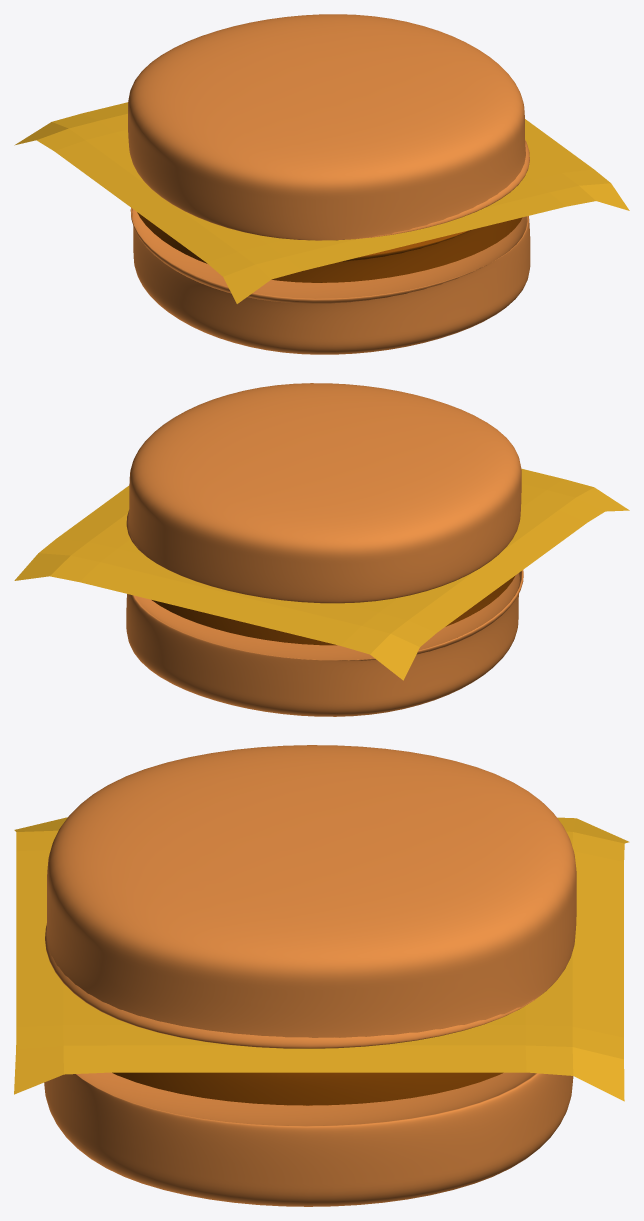
Rendered from hamburger.glb.
3 renders of one model, top to bottom at view 1: azimuth 30°, elevation 25°; view 2: azimuth 150°, elevation 25°; view 3: azimuth 270°, elevation 25°, orthographic. The views are drawn at different scales.
Parts seen in each view (by area): view 1: Cube.002, Cube.001, Plane, Cube; view 2: Cube.002, Plane, Cube.001, Cube; view 3: Cube.002, Cube.001, Plane, Cube.
Part boxes in pixels (x1,y1,x2,y2): Cube.002: (128,14,529,240); Cube.001: (130,208,530,354); Plane: (14,102,629,303); Cube: (137,212,522,282); Cube.002: (126,383,521,603); Plane: (14,468,629,680); Cube.001: (126,570,523,716); Cube: (152,575,515,645); Cube.002: (45,745,576,1048); Cube.001: (44,1072,573,1206); Plane: (14,817,629,1101); Cube: (112,1072,503,1105).
Size of the model in its own units: 6.01 by 3 by 5.9.
